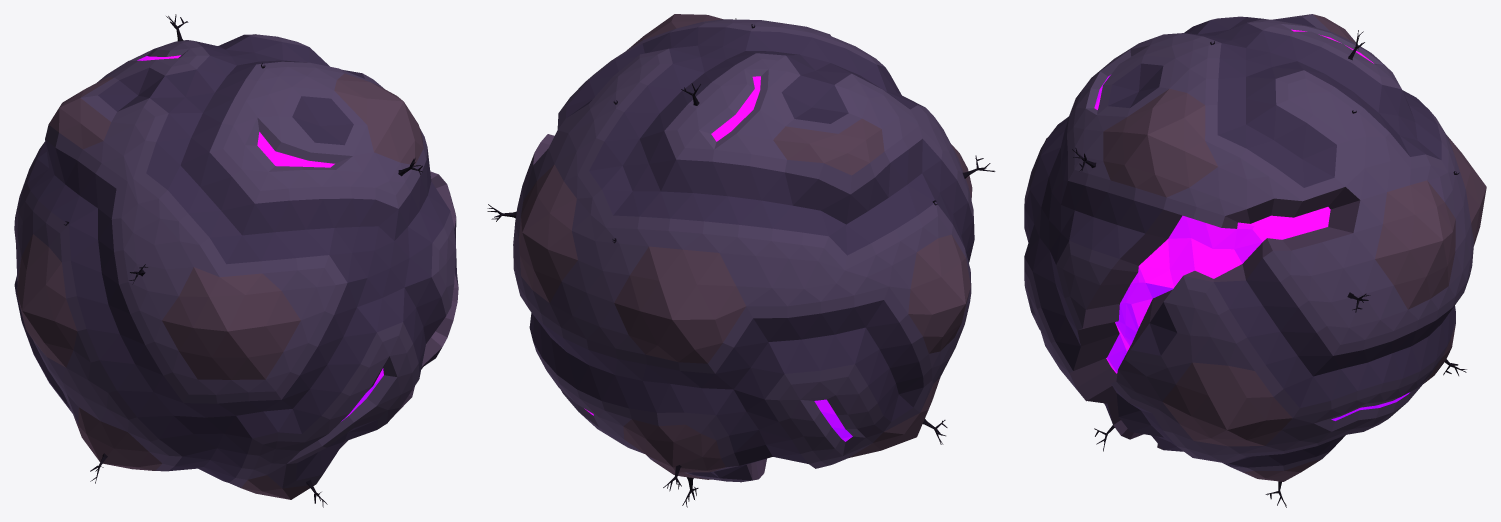
File: electro.fbx
The picture shows the model from 3 angles, left to right: view 1: azimuth 30°, elevation 25°; view 2: azimuth 150°, elevation 25°; view 3: azimuth 270°, elevation 25°; orthographic projection. The views are drawn at different scales.
Parts seen in each view (by area): view 1: Icosphere; view 2: Icosphere; view 3: Icosphere.
Part boxes in pixels (x1,y1,x2,y2): Icosphere: [14, 34, 458, 499]; Icosphere: [513, 14, 974, 482]; Icosphere: [1024, 14, 1486, 481].
Size of the model in its own units: 211 by 222 by 205.
